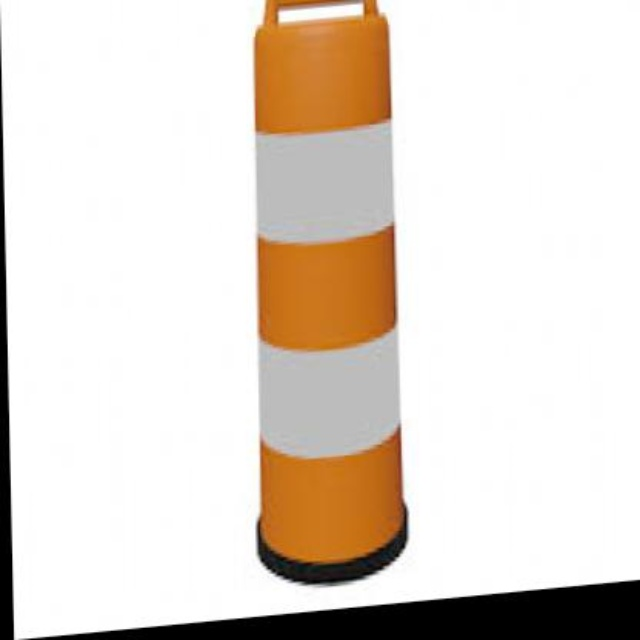obstacle: (237, 0, 405, 584)
